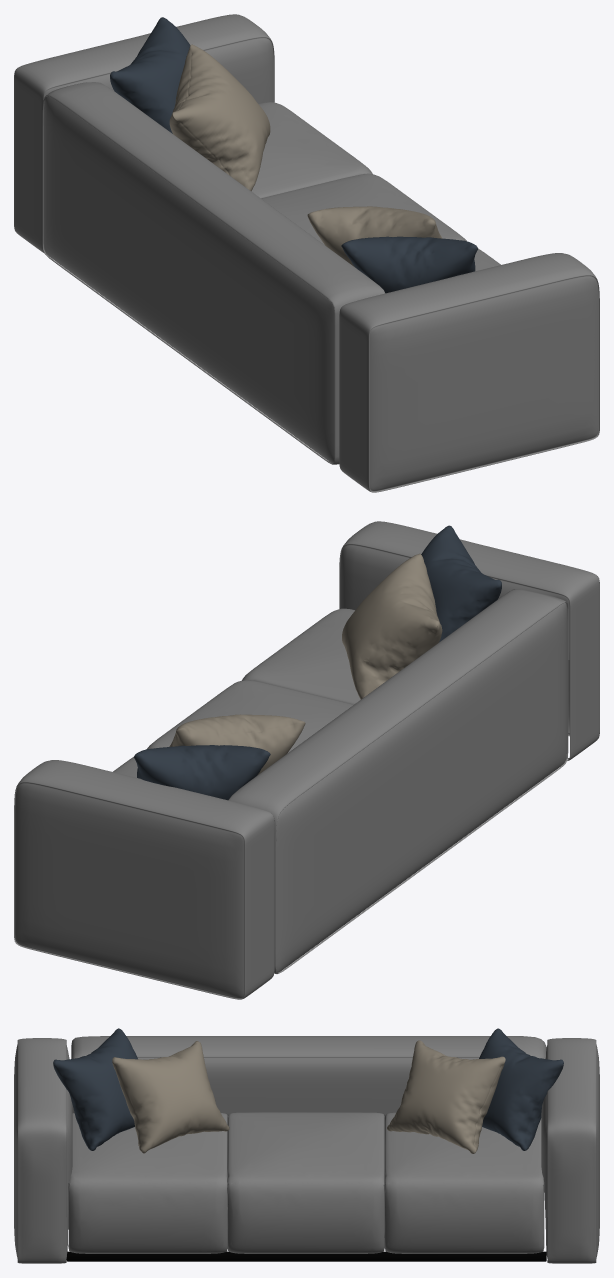
The model's file is Sofa.fbx.
3 views of the same model, one above another, from view 1: azimuth 30°, elevation 25°; view 2: azimuth 150°, elevation 25°; view 3: azimuth 270°, elevation 25° (orthographic). The views are drawn at different scales.
Parts seen in each view (by area): view 1: divan; view 2: divan; view 3: divan.
Boxes of the visible parts, x1=… form: divan: x1=14, y1=14, x2=599, y2=492; divan: x1=14, y1=521, x2=599, y2=999; divan: x1=14, y1=1028, x2=599, y2=1263.
Bounding box in the file's own units: 40.98 × 32.14 × 103.
